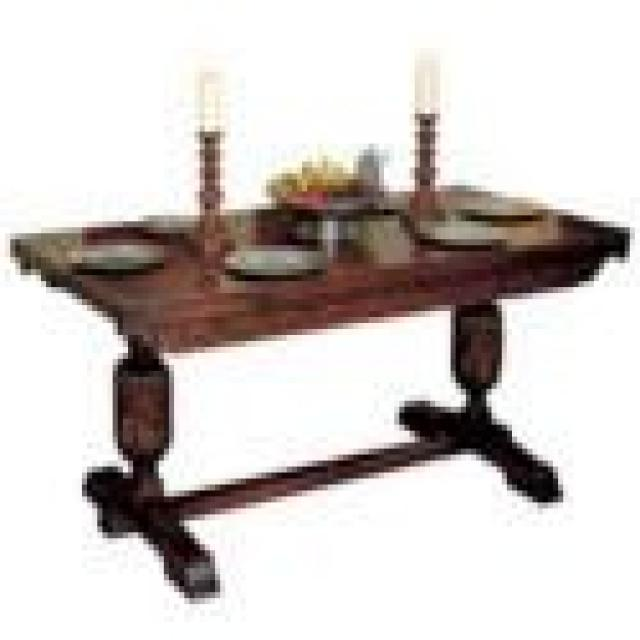table: (7, 180, 634, 608)
